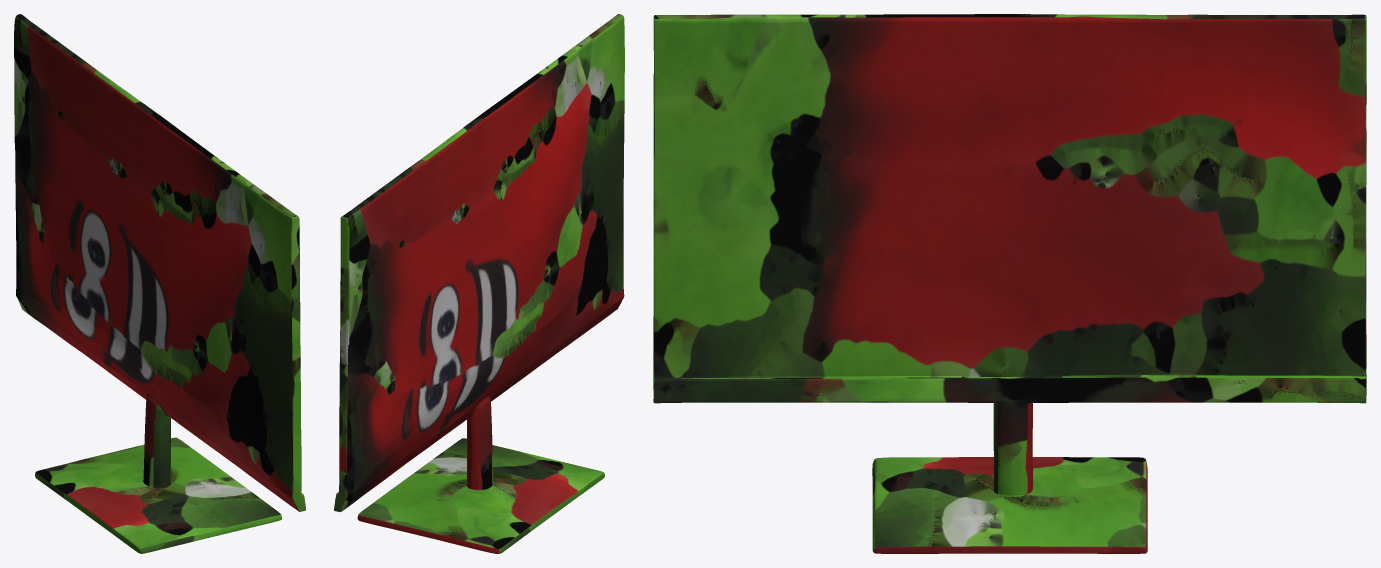
Rendered from sample.obj.
3 views of the same model, side by side, from view 1: azimuth 30°, elevation 25°; view 2: azimuth 150°, elevation 25°; view 3: azimuth 270°, elevation 25° (orthographic). The views are drawn at different scales.
Bounding box in the file's own units: 0.215 × 0.55 × 0.7206.
